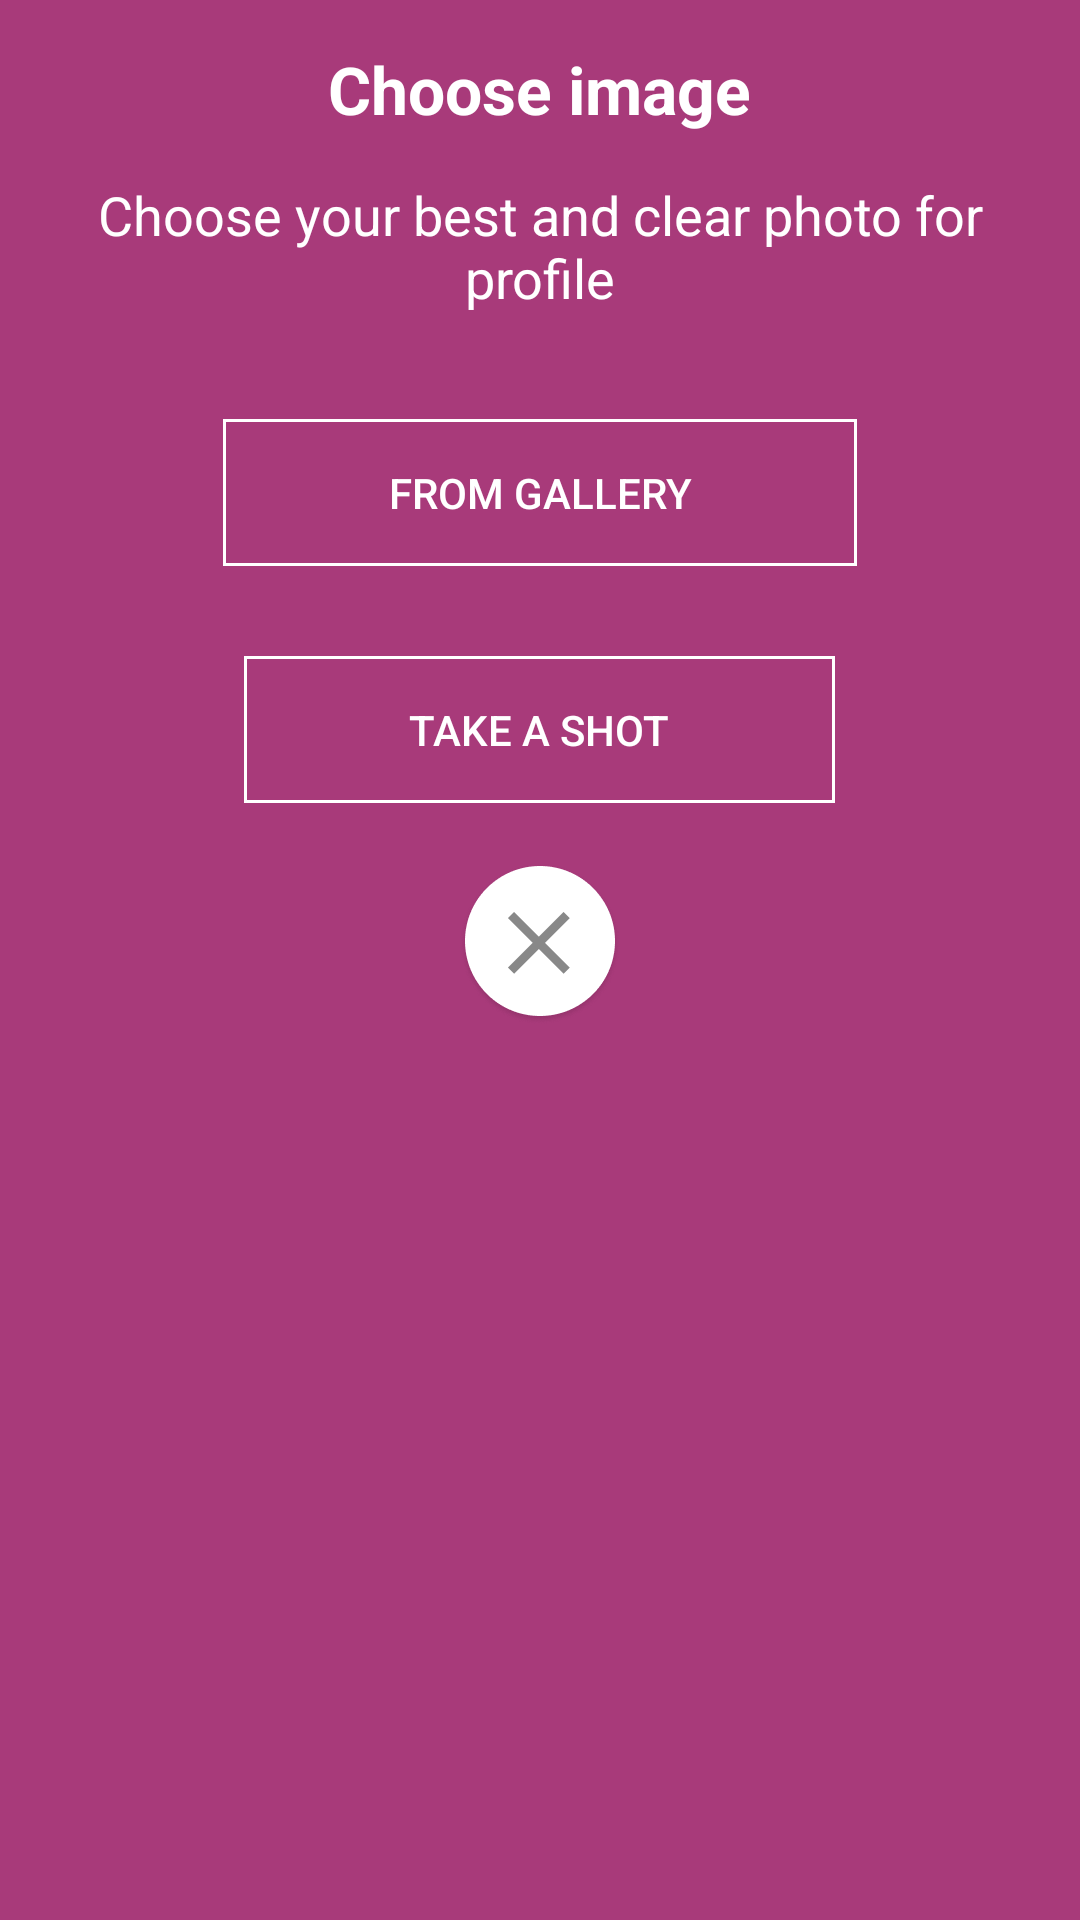

Icons on this 1080px x 1920px Android screen, each with the point to tap as [x,y]:
close: [540,941]
